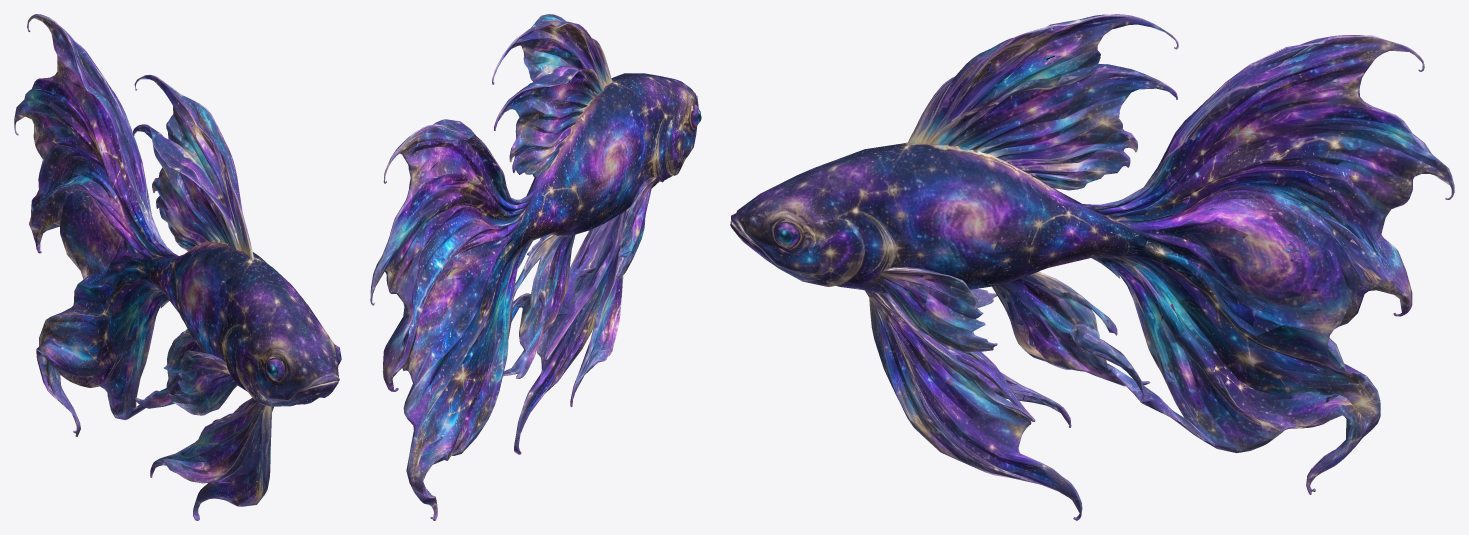
The model's file is spacefish.glb.
3 renders of one model, left to right at view 1: azimuth 30°, elevation 25°; view 2: azimuth 150°, elevation 25°; view 3: azimuth 270°, elevation 25°, orthographic. The views are drawn at different scales.
Visible parts, largest first — view 1: spacefish_fins, spacefish_body, spacefish_fins_low, spacefish_body_low; view 2: spacefish_fins, spacefish_body, spacefish_fins_low, spacefish_body_low; view 3: spacefish_fins, spacefish_body, spacefish_fins_low, spacefish_body_low.
Part boxes in pixels (box(x1,y1,x2,y2)): spacefish_fins: box(14, 14, 270, 520); spacefish_body: box(153, 191, 341, 484); spacefish_fins_low: box(14, 22, 253, 481); spacefish_body_low: box(151, 178, 339, 464); spacefish_fins: box(370, 14, 619, 520); spacefish_body: box(520, 52, 701, 337); spacefish_fins_low: box(374, 22, 618, 503); spacefish_body_low: box(509, 52, 695, 349); spacefish_fins: box(900, 14, 1454, 520); spacefish_body: box(730, 90, 1133, 426); spacefish_fins_low: box(957, 22, 1446, 519); spacefish_body_low: box(731, 145, 1121, 424).
Size of the model in its own units: 0.3322 by 1.51 by 2.
Materials: 2 (2 with a texture image).
